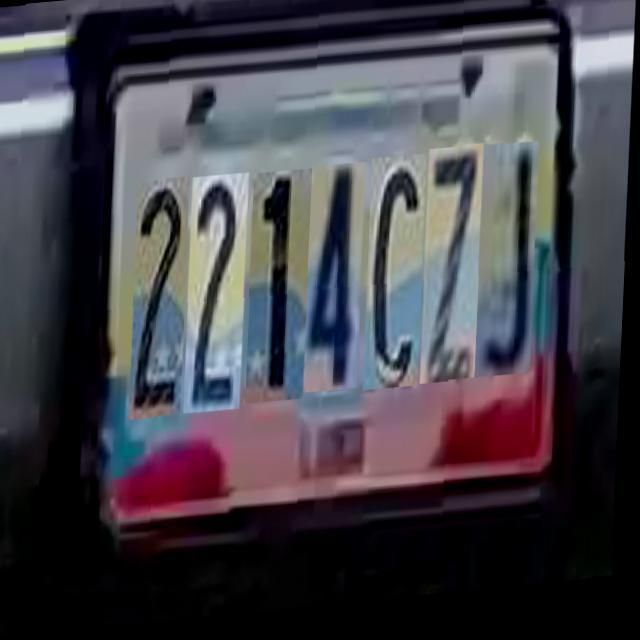1: (248, 171, 314, 406)
2: (187, 174, 250, 414), (132, 178, 192, 418)
4: (306, 168, 368, 398)
C: (366, 160, 429, 397)
J: (478, 151, 542, 387)
Z: (423, 152, 486, 390)
